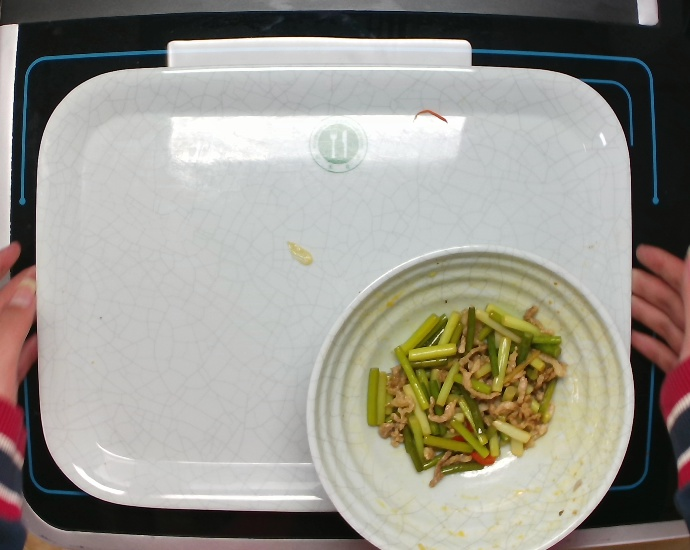JYsf-Da_Tang_Wan: (300, 243, 639, 550)
